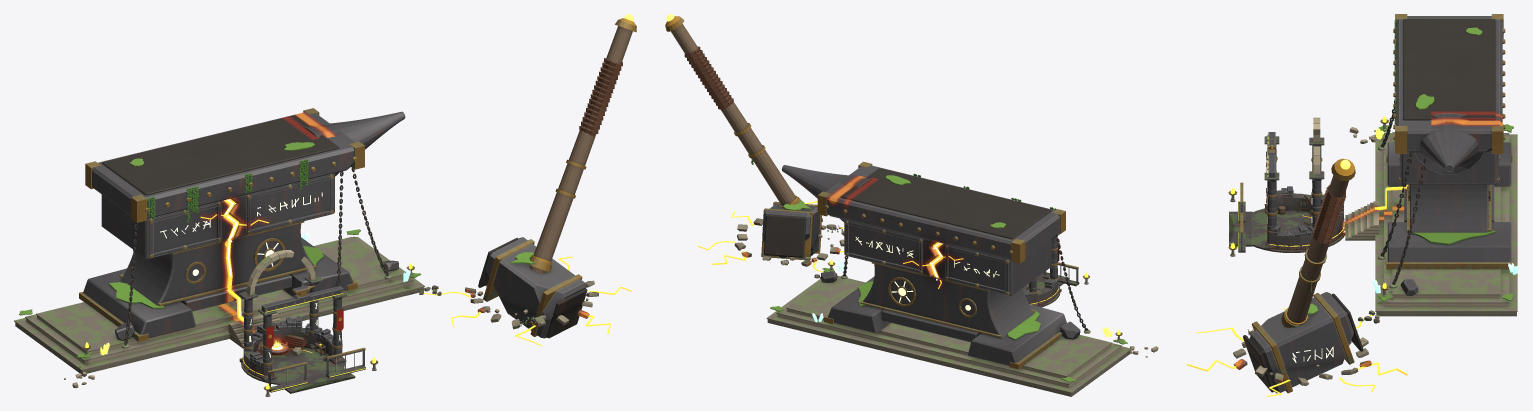
Rendered from LOBBY_SN_04_FORGE_d9f901.fbx.
The picture shows the model from 3 angles, left to right: view 1: azimuth 30°, elevation 25°; view 2: azimuth 150°, elevation 25°; view 3: azimuth 270°, elevation 25°; orthographic projection. The views are drawn at different scales.
Visible parts, largest first — view 1: WB_Frg_Anvil__SNB_Anvil_1, WB_Frg_Anvil_05__SNB_Anvil_6, WB_Frg_Anvil_07__SNB_Anvil_8, WB_Frg_Anvil_06__SNB_Anvil_7, WB_Frg_Anvil_01__SNB_Anvil_2, WB_Frg_Hammer__SNB_Hammer_1, WB_Frg_Hall__SNB_Hall_1, WB_Frg_Hammer_01__SNB_Hammer_2, WB_Frg_Anvil_04__SNB_Anvil_5, WB_Frg_Anvil_02__SNB_Anvil_3, WB_Frg_Hall_01__SNB_Hall_2, WB_Frg_Anvil_03__SNB_Anvil_4 (+2 smaller); view 2: WB_Frg_Anvil_05__SNB_Anvil_6, WB_Frg_Anvil__SNB_Anvil_1, WB_Frg_Anvil_07__SNB_Anvil_8, WB_Frg_Anvil_06__SNB_Anvil_7, WB_Frg_Anvil_01__SNB_Anvil_2, WB_Frg_Hammer_01__SNB_Hammer_2, WB_Frg_Anvil_04__SNB_Anvil_5, WB_Frg_Anvil_02__SNB_Anvil_3, WB_Frg_Hammer__SNB_Hammer_1, WB_Frg_Anvil_03__SNB_Anvil_4, WB_Frg_Hall__SNB_Hall_1; view 3: WB_Frg_Anvil_07__SNB_Anvil_8, WB_Frg_Anvil_06__SNB_Anvil_7, WB_Frg_Hammer__SNB_Hammer_1, WB_Frg_Hall__SNB_Hall_1, WB_Frg_Anvil_02__SNB_Anvil_3, WB_Frg_Anvil_05__SNB_Anvil_6, WB_Frg_Hammer_01__SNB_Hammer_2, WB_Frg_Anvil_01__SNB_Anvil_2, WB_Frg_Anvil_04__SNB_Anvil_5, WB_Frg_Anvil_03__SNB_Anvil_4, WB_Frg_Anvil__SNB_Anvil_1, WB_Frg_Hall_01__SNB_Hall_2 (+1 smaller).
Part boxes in pixels (x1=…): WB_Frg_Anvil__SNB_Anvil_1: x1=19, y1=158, x2=232, y2=388; WB_Frg_Anvil_05__SNB_Anvil_6: x1=26, y1=112, x2=412, y2=364; WB_Frg_Anvil_07__SNB_Anvil_8: x1=228, y1=108, x2=441, y2=297; WB_Frg_Anvil_06__SNB_Anvil_7: x1=102, y1=115, x2=339, y2=195; WB_Frg_Anvil_01__SNB_Anvil_2: x1=120, y1=186, x2=315, y2=305; WB_Frg_Hammer__SNB_Hammer_1: x1=465, y1=237, x2=598, y2=338; WB_Frg_Hall__SNB_Hall_1: x1=241, y1=285, x2=378, y2=396; WB_Frg_Hammer_01__SNB_Hammer_2: x1=478, y1=18, x2=636, y2=287; WB_Frg_Anvil_04__SNB_Anvil_5: x1=36, y1=236, x2=403, y2=351; WB_Frg_Anvil_02__SNB_Anvil_3: x1=14, y1=236, x2=424, y2=373; WB_Frg_Hall_01__SNB_Hall_2: x1=239, y1=250, x2=323, y2=367; WB_Frg_Anvil_03__SNB_Anvil_4: x1=25, y1=236, x2=414, y2=361; WB_Frg_Anvil_05__SNB_Anvil_6: x1=777, y1=165, x2=1120, y2=387; WB_Frg_Anvil__SNB_Anvil_1: x1=934, y1=198, x2=1158, y2=382; WB_Frg_Anvil_07__SNB_Anvil_8: x1=770, y1=161, x2=965, y2=333; WB_Frg_Anvil_06__SNB_Anvil_7: x1=840, y1=168, x2=1051, y2=239; WB_Frg_Anvil_01__SNB_Anvil_2: x1=863, y1=198, x2=1034, y2=338; WB_Frg_Hammer_01__SNB_Hammer_2: x1=665, y1=16, x2=811, y2=257; WB_Frg_Anvil_04__SNB_Anvil_5: x1=786, y1=275, x2=1112, y2=376; WB_Frg_Anvil_02__SNB_Anvil_3: x1=766, y1=278, x2=1131, y2=396; WB_Frg_Hammer__SNB_Hammer_1: x1=734, y1=201, x2=844, y2=266; WB_Frg_Anvil_03__SNB_Anvil_4: x1=776, y1=280, x2=1121, y2=384; WB_Frg_Hall__SNB_Hall_1: x1=1023, y1=233, x2=1089, y2=307; WB_Frg_Anvil_07__SNB_Anvil_8: x1=1358, y1=72, x2=1513, y2=323; WB_Frg_Anvil_06__SNB_Anvil_7: x1=1394, y1=19, x2=1495, y2=120; WB_Frg_Hammer__SNB_Hammer_1: x1=1233, y1=292, x2=1371, y2=393; WB_Frg_Hall__SNB_Hall_1: x1=1228, y1=132, x2=1345, y2=256; WB_Frg_Anvil_02__SNB_Anvil_3: x1=1348, y1=134, x2=1517, y2=316; WB_Frg_Anvil_05__SNB_Anvil_6: x1=1345, y1=16, x2=1508, y2=306; WB_Frg_Hammer_01__SNB_Hammer_2: x1=1281, y1=158, x2=1363, y2=351; WB_Frg_Anvil_01__SNB_Anvil_2: x1=1393, y1=43, x2=1505, y2=234; WB_Frg_Anvil_04__SNB_Anvil_5: x1=1392, y1=132, x2=1500, y2=295; WB_Frg_Anvil_03__SNB_Anvil_4: x1=1384, y1=133, x2=1509, y2=303; WB_Frg_Anvil__SNB_Anvil_1: x1=1349, y1=14, x2=1513, y2=186; WB_Frg_Hall_01__SNB_Hall_2: x1=1301, y1=117, x2=1345, y2=250.
Bounding box in the file's own units: 241 × 109 × 118.
21 materials, 13 textured.
